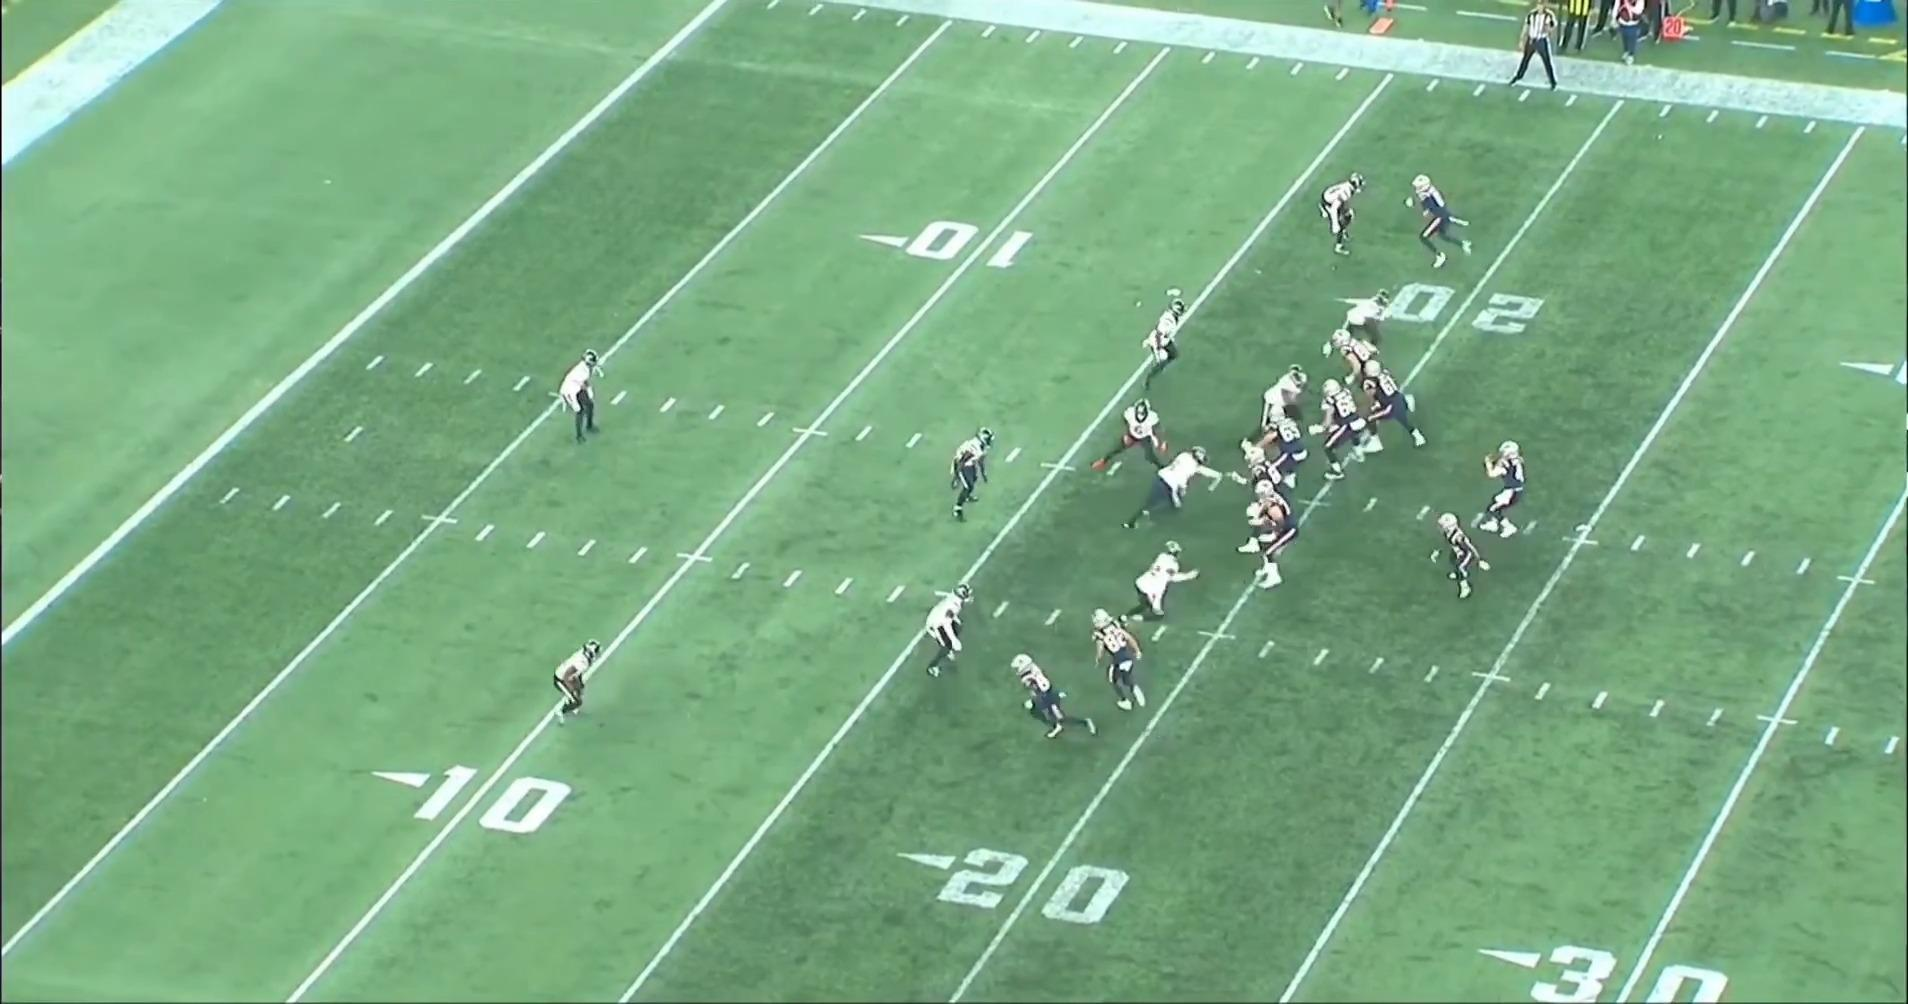player: (1130, 443, 1232, 533), (1010, 649, 1099, 744), (1404, 168, 1473, 268), (1124, 542, 1203, 629), (1314, 379, 1379, 482), (1084, 609, 1146, 716), (1365, 359, 1434, 454), (1232, 491, 1294, 595), (1089, 400, 1167, 481), (1461, 438, 1521, 539), (916, 584, 971, 686), (950, 427, 1002, 528), (1139, 295, 1190, 394), (1323, 291, 1397, 358), (555, 344, 603, 447), (544, 638, 597, 728), (1322, 170, 1373, 260), (1233, 436, 1288, 518), (1441, 514, 1490, 602), (1266, 406, 1316, 492), (1324, 330, 1385, 397), (1264, 363, 1318, 433)
ref: (1510, 4, 1570, 95)
